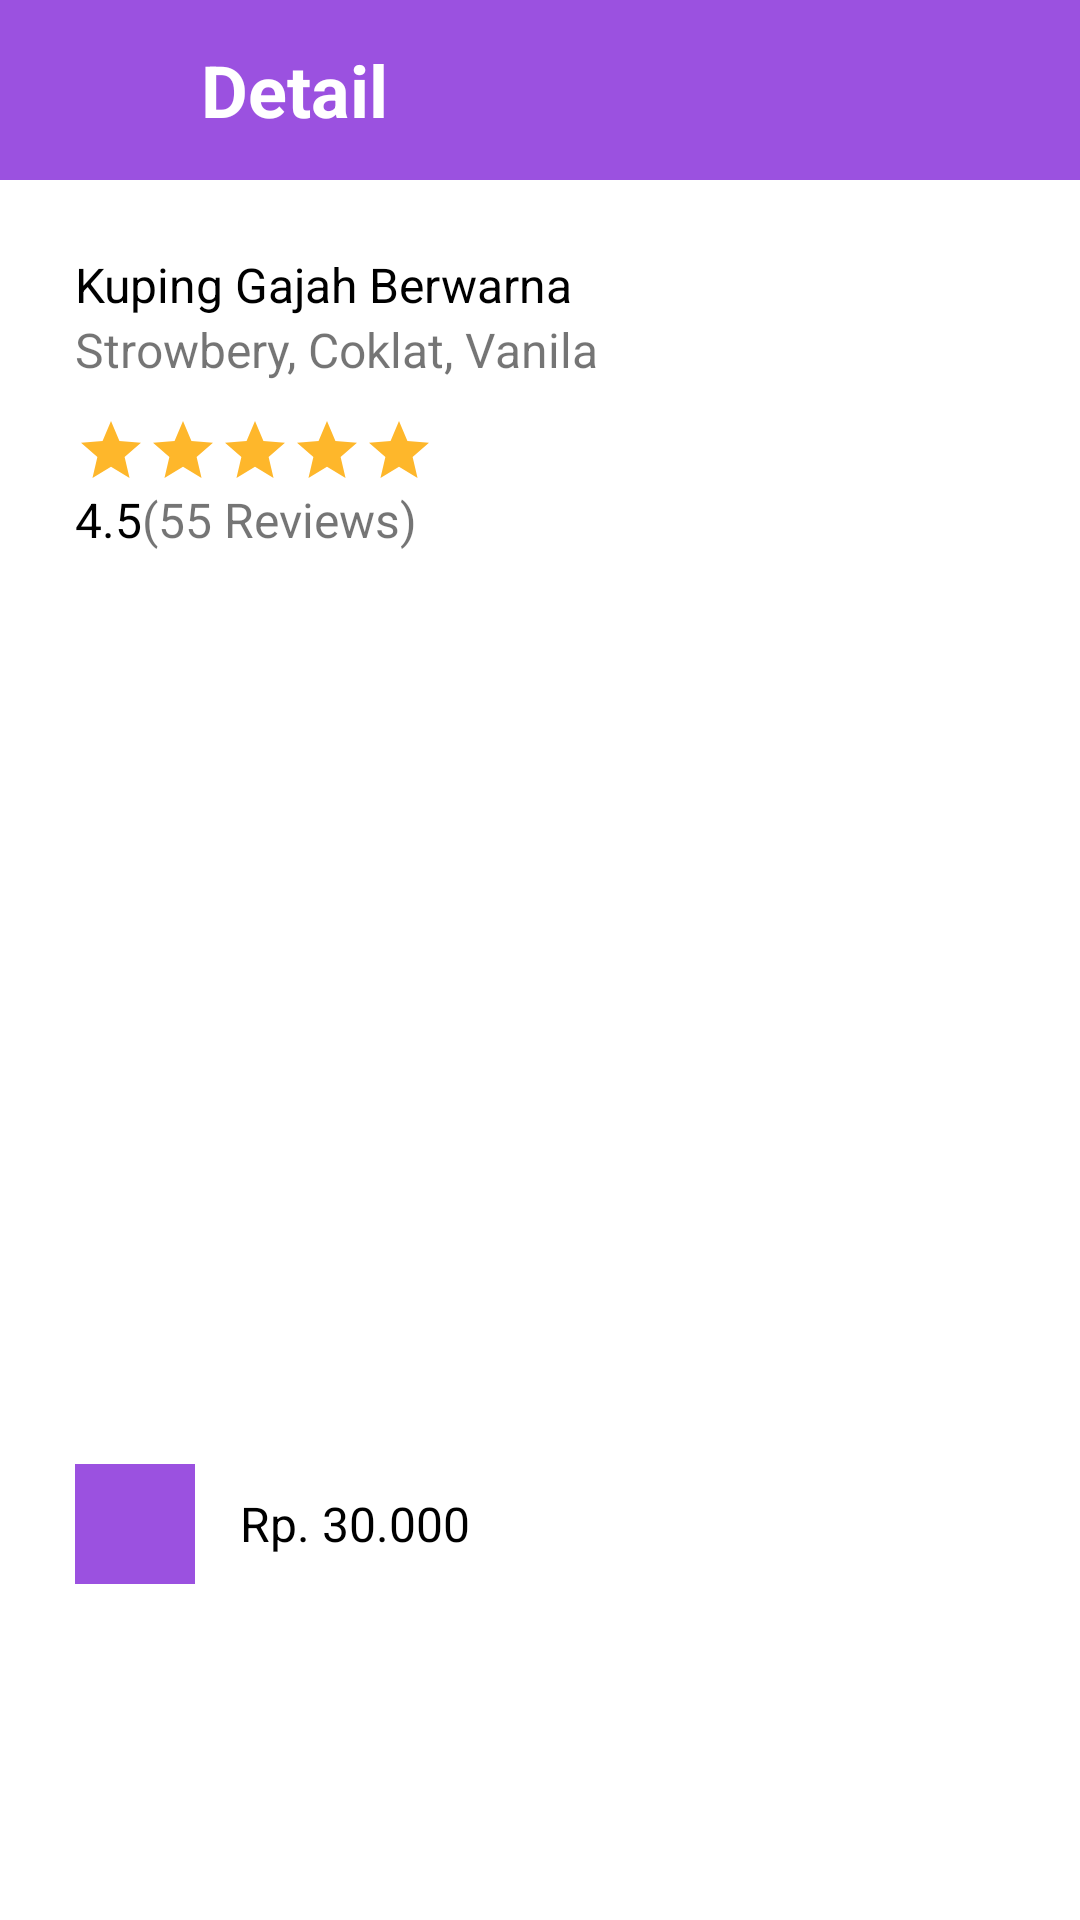

Where icons sit on this 1080*1920 app screen, as (x1, y1, x2, y2):
star: (81, 421, 141, 478), (153, 421, 213, 478), (225, 421, 285, 478), (297, 421, 357, 478), (369, 421, 429, 478)
